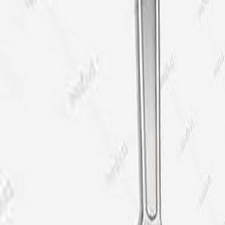Wrench: (120, 1, 186, 225)
